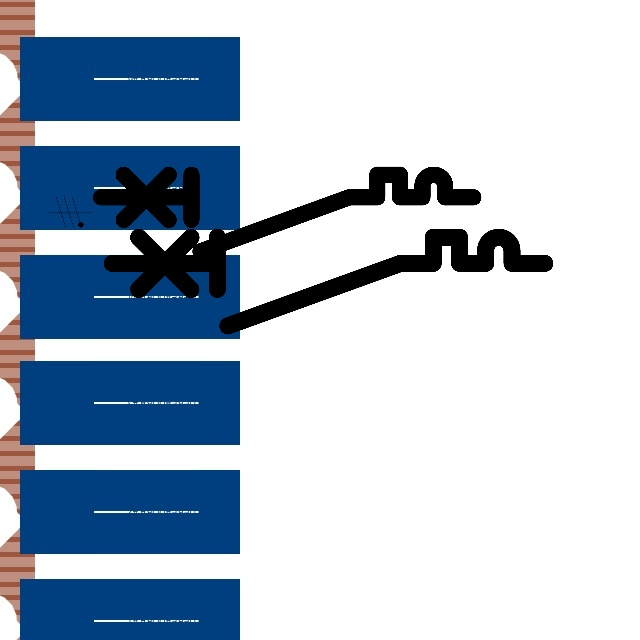interruptor_termomagnetico: (101, 226, 556, 337), (91, 165, 483, 261)
